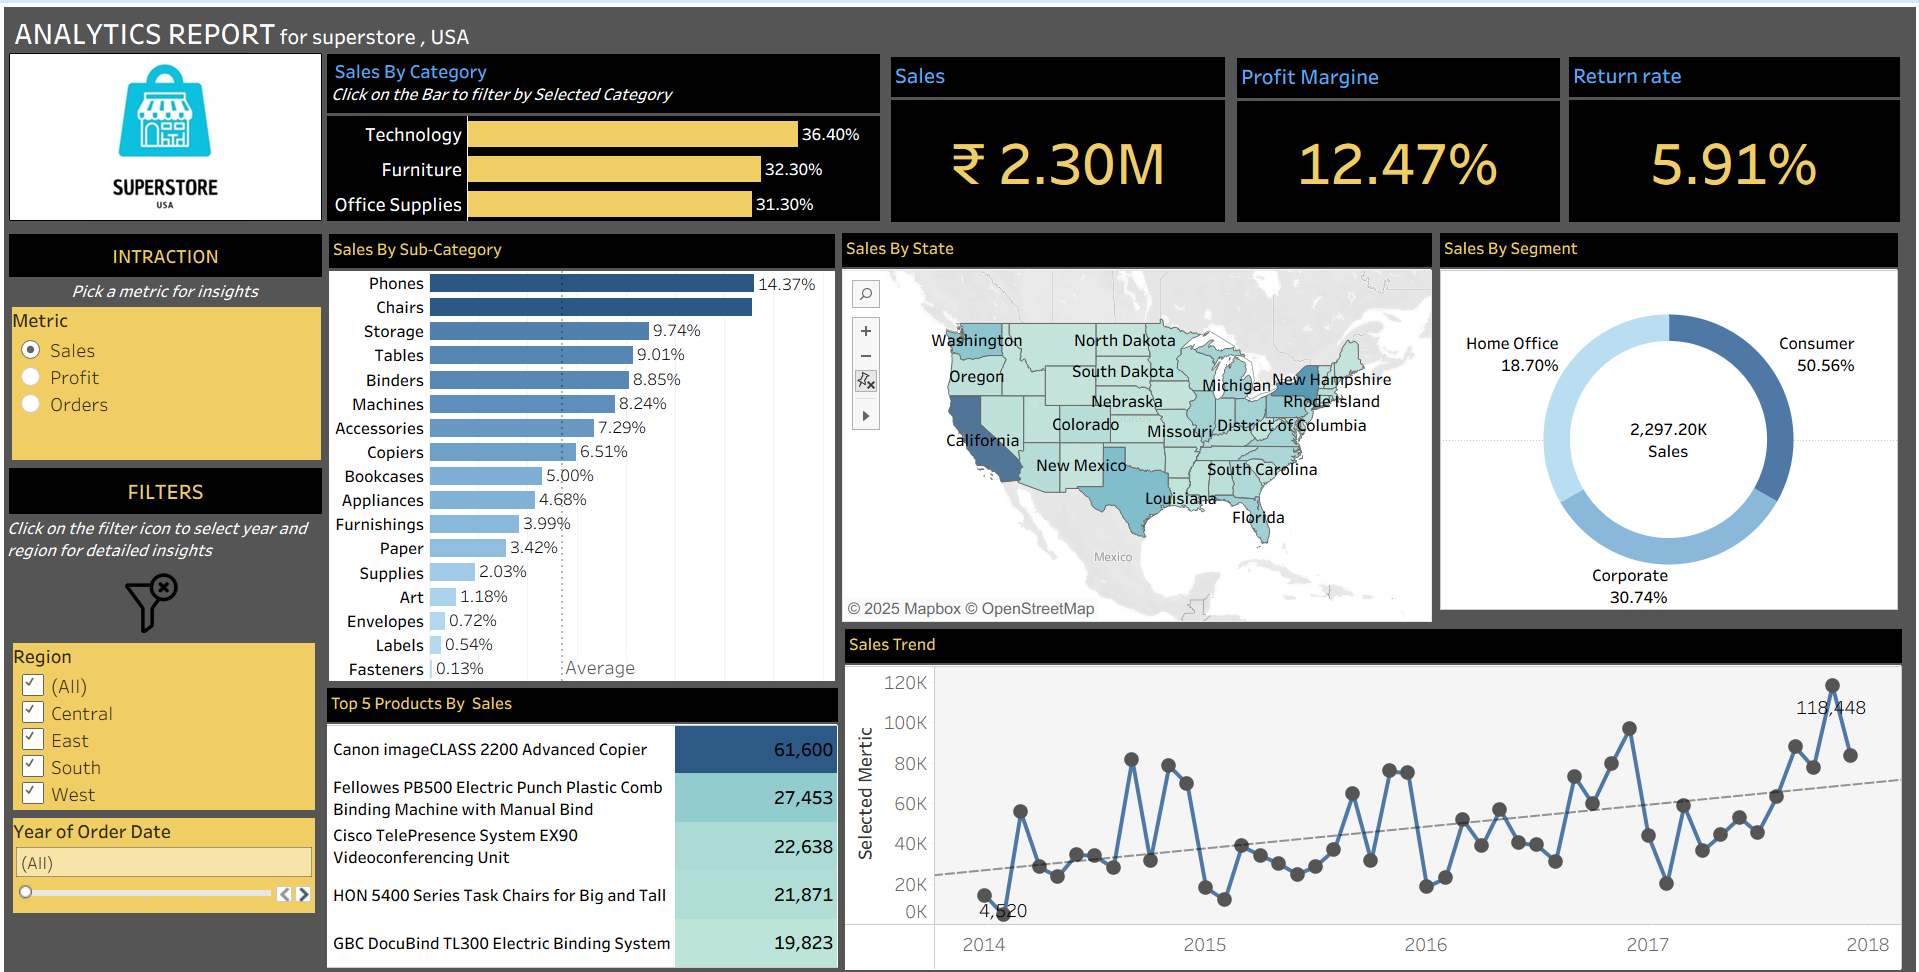

What the dashboard file says about the page in this screenshot:
{"tool":"tableau","page":{"name":"Assignment 7 (DB)","canvas":[1000,1000],"units":"permille","ordinal":1},"visuals":[{"type":"blank","box":[0,0,1000,1000]},{"type":"text","box":[5,11,963.8,37.9]},{"type":"image","param":"Image/Superstore Icon.jpg","box":[4.8,51.3,162.9,172.4]},{"type":"worksheet","title":"Sales By Category","mark":"Automatic","rows":["Category"],"cols":["Calculation_1147573480255991810"],"box":[170.1,52.6,288.5,171.2]},{"type":"worksheet","title":"Sales","mark":"Automatic","box":[463.9,55,174.3,169.9]},{"type":"worksheet","title":"Return rate","mark":"Automatic","box":[817.3,55,172.5,169.9]},{"type":"worksheet","title":"Profit Margine","mark":"Automatic","box":[644.2,56.2,168.3,168.7]},{"type":"worksheet","title":"Sales By state","mark":"Multipolygon","box":[438.7,235.9,307.1,398.5]},{"type":"worksheet","title":"Sales By Segment ","mark":"Pie","rows":["Calculation_1195705769202937856","Calculation_1195705769202937856"],"box":[750,235.9,238.6,399.8]},{"type":"text","box":[4.8,237.2,162.9,44]},{"type":"worksheet","title":"Sales By Sub-Category","mark":"Automatic","rows":["Sub-Category"],"cols":["Calculation_1147573480255991810"],"box":[171.3,237.2,263.8,458.4]},{"type":"text","box":[6,277.5,159.9,34.2]},{"type":"parameter","param":"[Parameters].[Parameter 2]","box":[6,311.7,161,156.5]},{"type":"text","box":[4.8,476.8,162.8,47.7]},{"type":"text","box":[1.8,513.5,174.3,70.9]},{"type":"dashboard-object","box":[63.1,577,31.2,77]},{"type":"worksheet","title":"Sales Trend","mark":"Line","rows":["Calculation_1147573480255991810","Calculation_1147573480255991810"],"cols":["Order Date"],"box":[439.9,641.8,550.5,349.6]},{"type":"filter","title":"Sales By Sub-Category","param":"[federated.0z15pif1ewe70f1ghtvrt035d5da].[none:Region:nk]","box":[4.8,652.8,161.7,198.1]},{"type":"worksheet","title":"Top 5 Products By Sales ","mark":"Square","rows":["Product Name"],"box":[170.1,702.9,266.2,287.3]},{"type":"filter","title":"Sales By Sub-Category","param":"[federated.0z15pif1ewe70f1ghtvrt035d5da].[yr:Order Date:ok]","box":[4.8,850.9,161.7,138.1]}]}

Visuals, with their boxes on the dashboard's canvas, which has no fixed pixel size, in thousandths of its width and height (x1, y1, x2, y2). These are canvas units, not pixel positions in the 1919x972 screenshot, which may show the page scaled, cropped or inside an application window:
blank: x1=0 y1=0 x2=1000 y2=1000
text: x1=5 y1=11 x2=969 y2=49
image: x1=5 y1=51 x2=168 y2=224
"Sales By Category" worksheet: x1=170 y1=53 x2=459 y2=224
"Sales" worksheet: x1=464 y1=55 x2=638 y2=225
"Return rate" worksheet: x1=817 y1=55 x2=990 y2=225
"Profit Margine" worksheet: x1=644 y1=56 x2=812 y2=225
"Sales By state" worksheet (Multipolygon marks): x1=439 y1=236 x2=746 y2=634
"Sales By Segment " worksheet (Pie marks): x1=750 y1=236 x2=989 y2=636
text: x1=5 y1=237 x2=168 y2=281
"Sales By Sub-Category" worksheet: x1=171 y1=237 x2=435 y2=696
text: x1=6 y1=278 x2=166 y2=312
parameter: x1=6 y1=312 x2=167 y2=468
text: x1=5 y1=477 x2=168 y2=524
text: x1=2 y1=514 x2=176 y2=584
dashboard-object: x1=63 y1=577 x2=94 y2=654
"Sales Trend" worksheet (Line marks): x1=440 y1=642 x2=990 y2=991
"Sales By Sub-Category" filter: x1=5 y1=653 x2=166 y2=851
"Top 5 Products By Sales " worksheet (Square marks): x1=170 y1=703 x2=436 y2=990
"Sales By Sub-Category" filter: x1=5 y1=851 x2=166 y2=989
